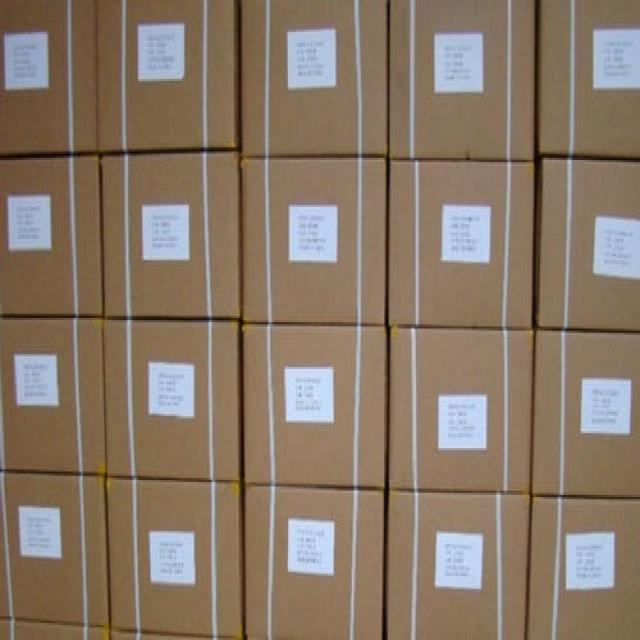box: (241, 155, 388, 325), (388, 158, 534, 329), (387, 325, 534, 492), (242, 320, 388, 488), (103, 147, 242, 317), (389, 0, 535, 160), (240, 0, 388, 156), (104, 316, 243, 481), (106, 475, 244, 638), (384, 486, 530, 638), (96, 0, 240, 152), (244, 485, 386, 638), (530, 320, 639, 497), (535, 158, 639, 331), (0, 471, 110, 627), (0, 152, 104, 316), (0, 316, 106, 474), (525, 493, 639, 638), (535, 0, 639, 158), (0, 1, 97, 154), (0, 619, 110, 638), (110, 628, 244, 638)
